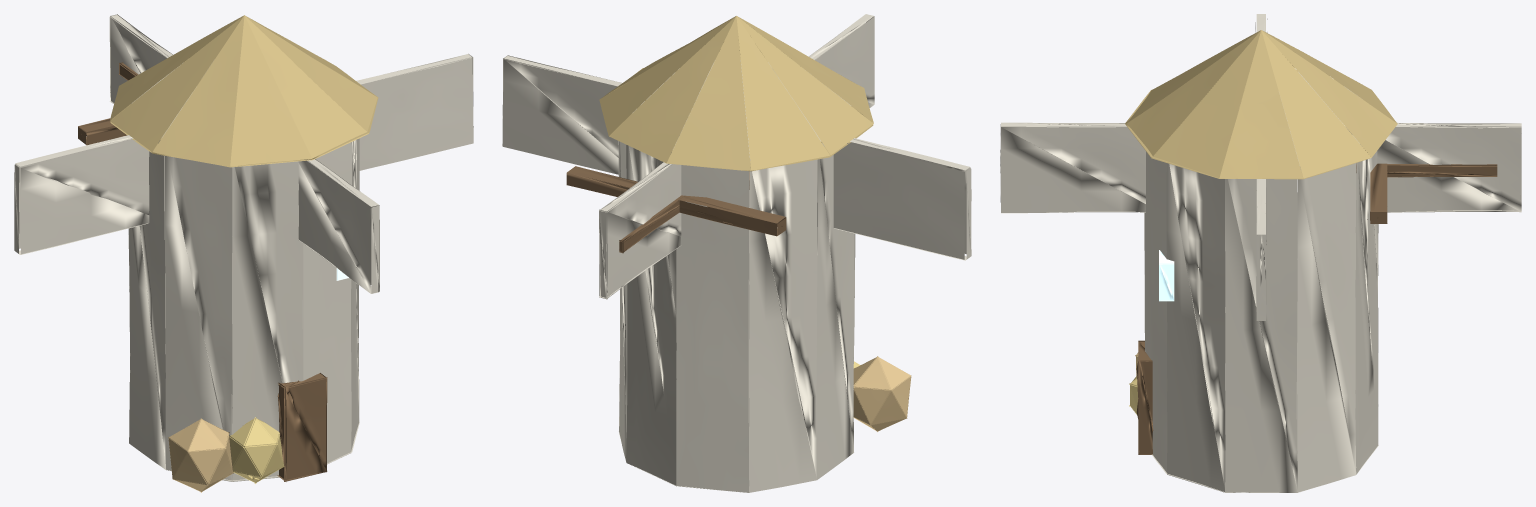
File: windmill.glb
3 views of the same model, side by side, from view 1: azimuth 30°, elevation 25°; view 2: azimuth 150°, elevation 25°; view 3: azimuth 270°, elevation 25° (orthographic). The views are drawn at different scales.
Parts seen in each view (by area): view 1: MillTower; view 2: MillTower; view 3: MillTower.
Part boxes in pixels (x1,y1,x2,y2): MillTower: [14, 14, 473, 492]; MillTower: [502, 14, 971, 492]; MillTower: [1000, 14, 1521, 492].
Bounding box in the file's own units: 2.76 × 2.44 × 2.75.
